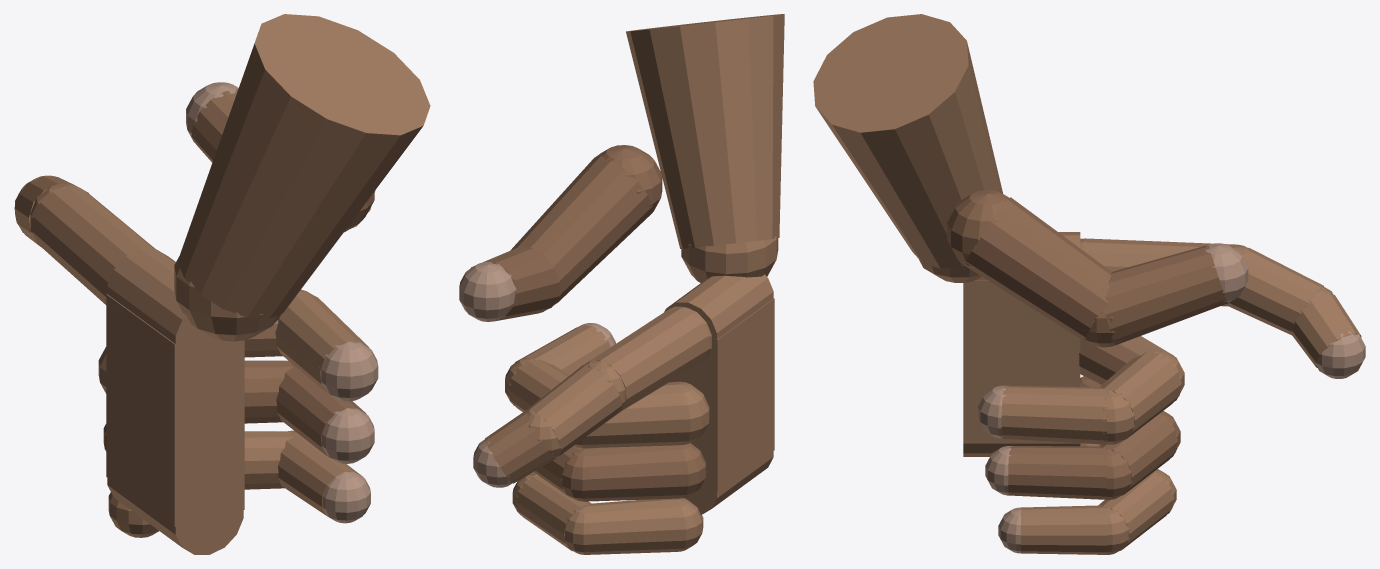
Rendered from hand_pistol_left.glb.
The picture shows the model from 3 angles, left to right: view 1: azimuth 30°, elevation 25°; view 2: azimuth 150°, elevation 25°; view 3: azimuth 270°, elevation 25°; orthographic projection. The views are drawn at different scales.
Visible parts, largest first — view 1: hand_pistol_left; view 2: hand_pistol_left; view 3: hand_pistol_left.
Part boxes in pixels (left/top/right/bottom): hand_pistol_left: left=14, top=14, right=430, bottom=554; hand_pistol_left: left=459, top=14, right=784, bottom=554; hand_pistol_left: left=813, top=14, right=1365, bottom=554.
Size of the model in its own units: 0.0703 by 0.1544 by 0.1603.
